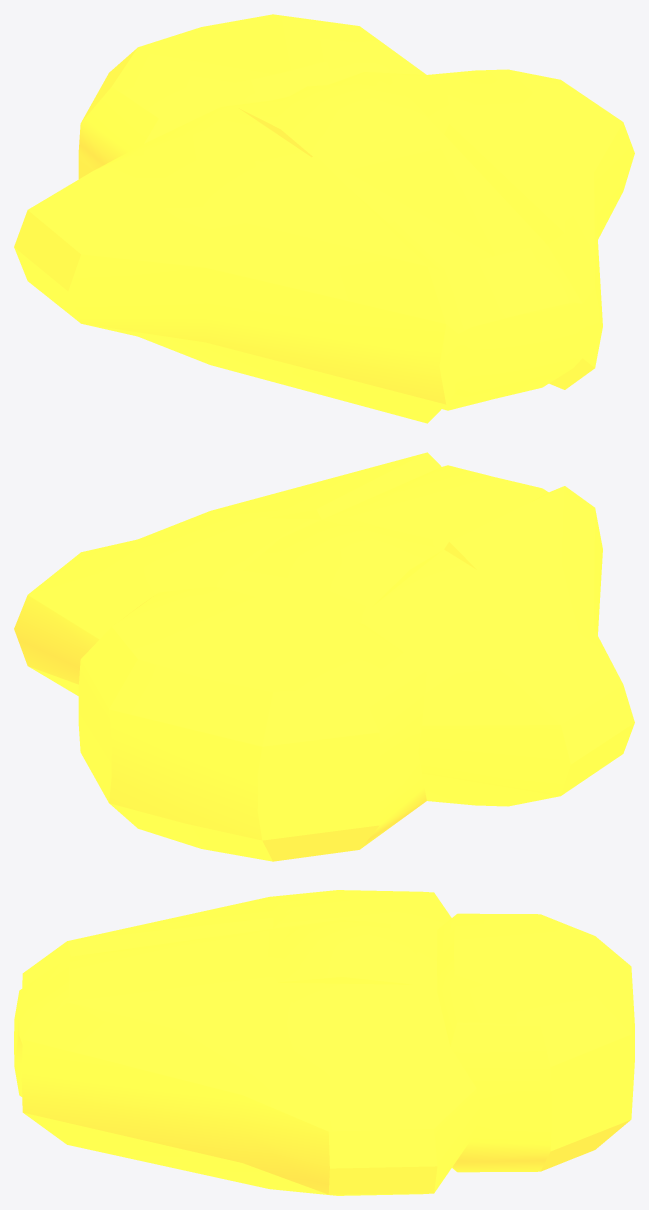
Rendered from 01_ship_medium_otorel_aegis.glb.
The picture shows the model from 3 angles, top to bottom: view 1: azimuth 30°, elevation 25°; view 2: azimuth 150°, elevation 25°; view 3: azimuth 270°, elevation 25°; orthographic projection. The views are drawn at different scales.
Visible parts, largest first — view 1: 01_ship_medium_otorel_aegis; view 2: 01_ship_medium_otorel_aegis; view 3: 01_ship_medium_otorel_aegis.
Part boxes in pixels (x1,y1,x2,y2): 01_ship_medium_otorel_aegis: (14,14,634,423); 01_ship_medium_otorel_aegis: (14,452,634,861); 01_ship_medium_otorel_aegis: (14,890,634,1195).
Size of the model in its own units: 0.9914 by 0.4022 by 1.04.
